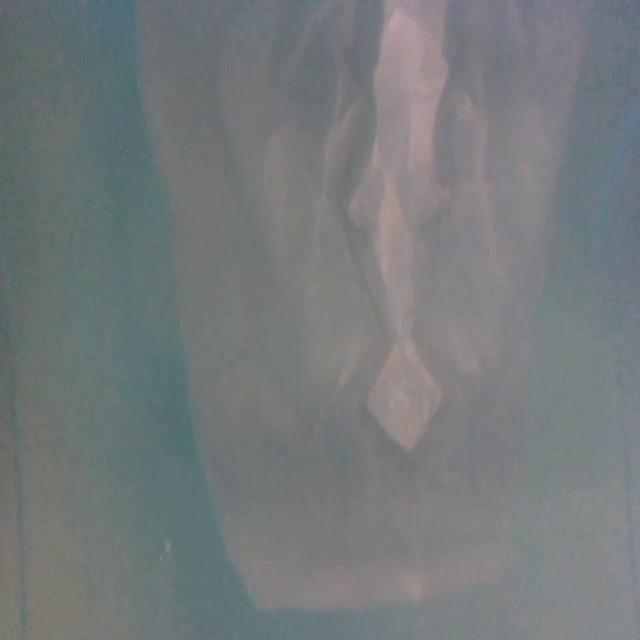plastic bags: (152, 0, 578, 618)
